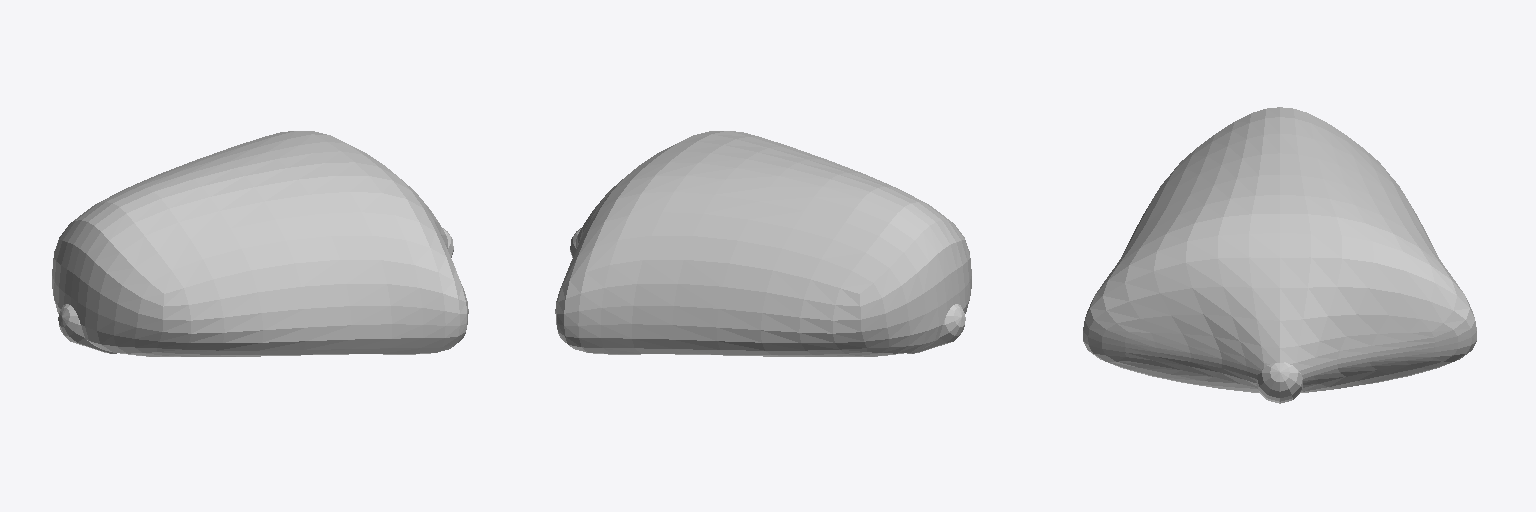
Rendered from Torso.obj.
The picture shows the model from 3 angles: view 1: azimuth 30°, elevation 25°; view 2: azimuth 150°, elevation 25°; view 3: azimuth 270°, elevation 25°; orthographic projection.
Visible parts, largest first — view 1: torso.001; view 2: torso.001; view 3: torso.001.
Boxes of the visible parts, x1,y1,x2,y2 form: torso.001: [52, 131, 468, 356]; torso.001: [555, 131, 971, 356]; torso.001: [1083, 107, 1476, 403].
Bounding box in the file's own units: 0.3715 × 0.169 × 0.3249.